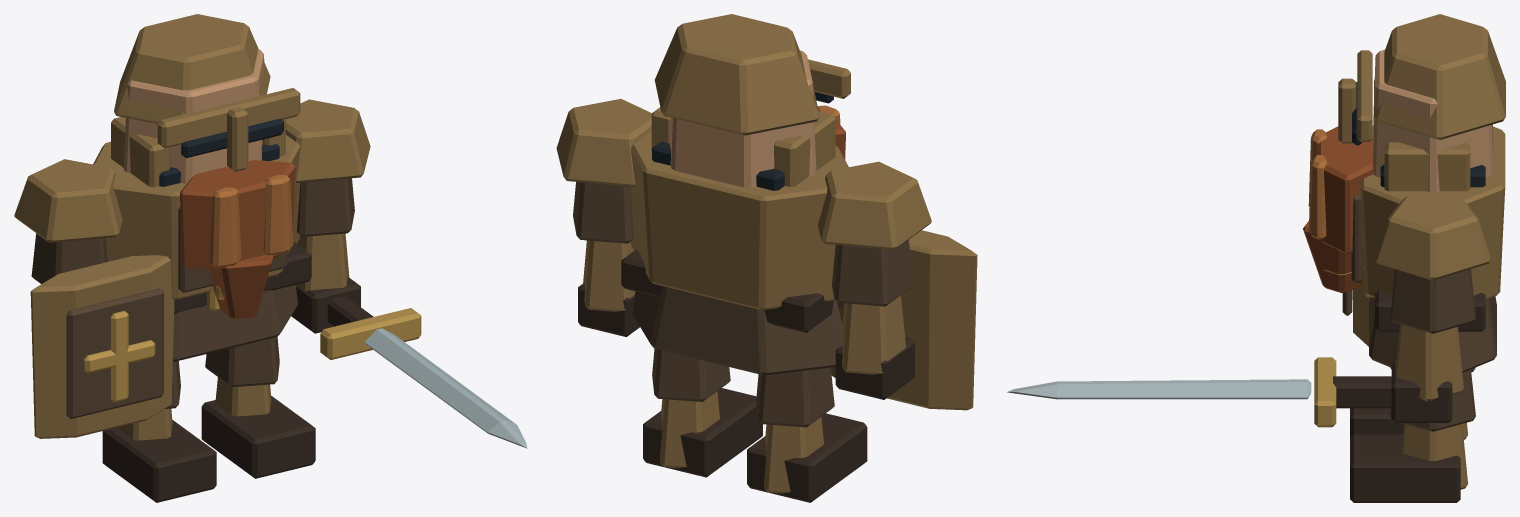
The model's file is guardian.glb.
3 renders of one model, left to right at view 1: azimuth 30°, elevation 25°; view 2: azimuth 150°, elevation 25°; view 3: azimuth 270°, elevation 25°, orthographic. The views are drawn at different scales.
Parts seen in each view (by area): view 1: head.001, shield.001, beard_upper, upper_arm_l.001, torso.001, upper_arm_r.001, weapon.001, shin_r.001, shin_l.001, pelvis.001, forearm_r.001, beard_tip (+1 smaller); view 2: head.001, torso.001, pelvis.001, upper_arm_l.001, shield.001, upper_arm_r.001, shin_l.001, shin_r.001, forearm_l.001, forearm_r.001, thigh_l.001, thigh_r.001 (+1 smaller); view 3: head.001, upper_arm_r.001, weapon.001, torso.001, shin_r.001, forearm_r.001, beard_upper, pelvis.001, beard_tip, shin_l.001, thigh_r.001, shield.001.
Boxes of the visible parts, x1,y1,x2,y2 form: head.001: (111, 14, 300, 187); shield.001: (30, 255, 174, 438); beard_upper: (180, 160, 295, 270); upper_arm_l.001: (14, 159, 122, 283); torso.001: (93, 135, 300, 300); upper_arm_r.001: (285, 99, 370, 236); weapon.001: (320, 296, 527, 448); shin_r.001: (201, 377, 315, 478); shin_l.001: (102, 408, 216, 502); pelvis.001: (172, 242, 311, 361); forearm_r.001: (291, 233, 360, 333); beard_tip: (210, 254, 273, 319); head.001: (651, 14, 850, 187); torso.001: (630, 131, 848, 310); pelvis.001: (621, 249, 844, 375); upper_arm_l.001: (817, 161, 931, 306); shield.001: (831, 230, 977, 410); upper_arm_r.001: (556, 99, 651, 243); shin_l.001: (747, 413, 867, 502); shin_r.001: (643, 388, 762, 477); forearm_l.001: (835, 295, 914, 399); forearm_r.001: (578, 240, 639, 336); thigh_l.001: (756, 367, 834, 427); thigh_r.001: (652, 349, 730, 401); head.001: (1338, 14, 1505, 192); upper_arm_r.001: (1375, 196, 1490, 333); weapon.001: (1007, 357, 1391, 427); torso.001: (1351, 126, 1505, 299); shin_r.001: (1350, 424, 1467, 502); forearm_r.001: (1391, 324, 1463, 422); beard_upper: (1308, 126, 1373, 254); pelvis.001: (1364, 266, 1496, 372); beard_tip: (1303, 221, 1364, 292); shin_l.001: (1350, 408, 1467, 439); thigh_r.001: (1390, 369, 1475, 431); shield.001: (1342, 278, 1370, 346).
Size of the model in its own units: 1.56 by 1.7 by 1.81.
